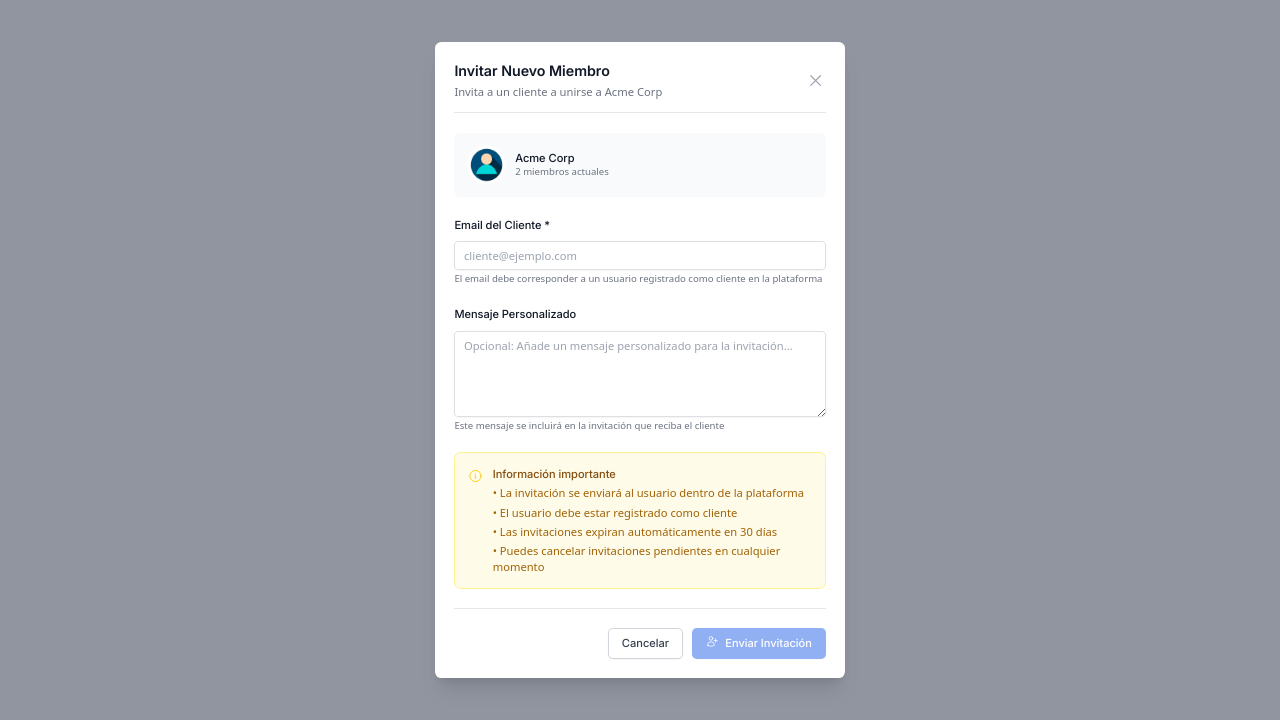
Test: InviteMemberModal.vue › clicking 'Invitar a Otra Persona' after success resets form and keeps modal open
Type "test@example.com" into the field with id "email" at point(640, 256), box [454, 241, 826, 270]
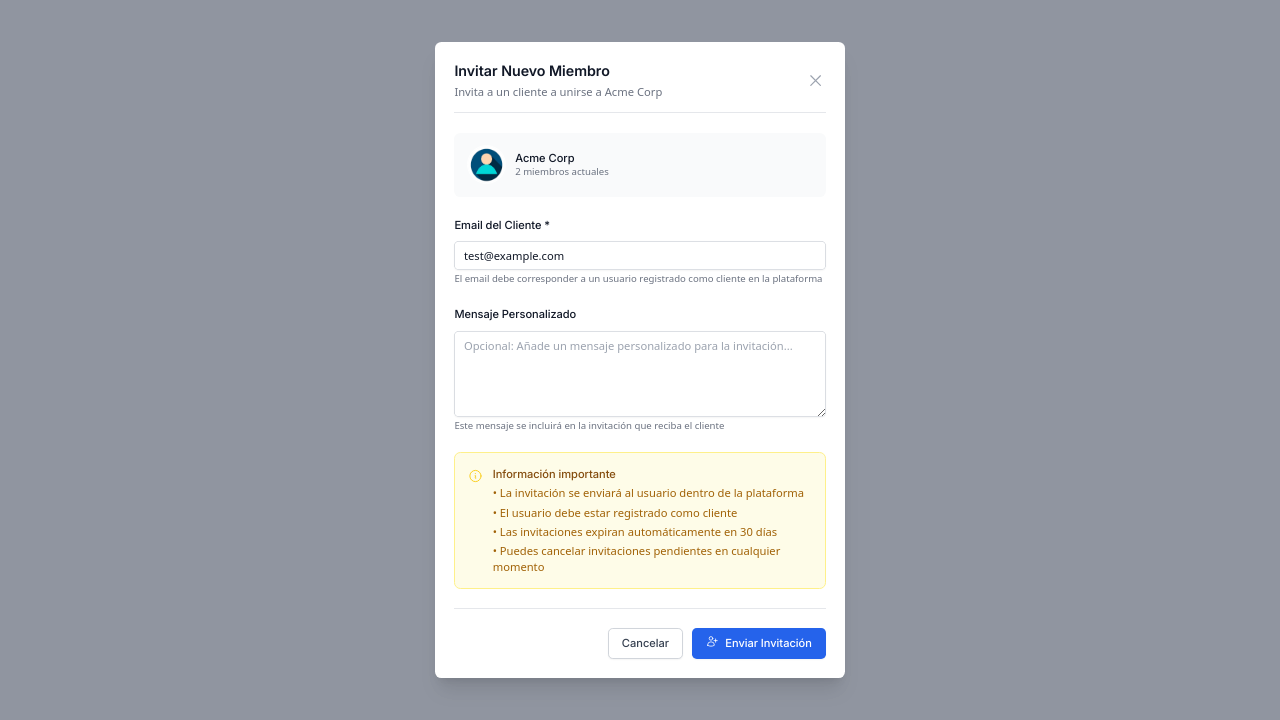
Submit the form, box [454, 132, 826, 659]
(page scrolled)
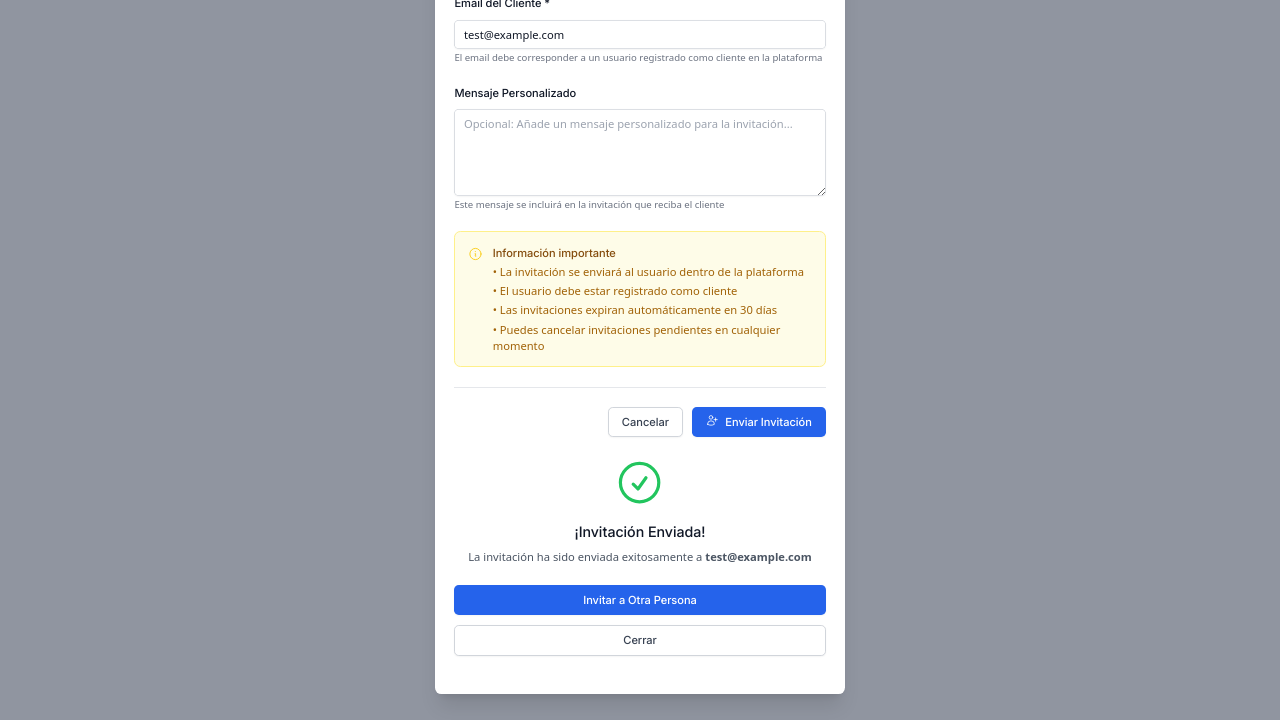
Expected: the text "¡Invitación Enviada!" is shown, [574, 523, 706, 540]
Expected: the button "Invitar a Otra Persona" is shown
Click the button "Invitar a Otra Persona" at point(640, 600), box [454, 585, 826, 615]
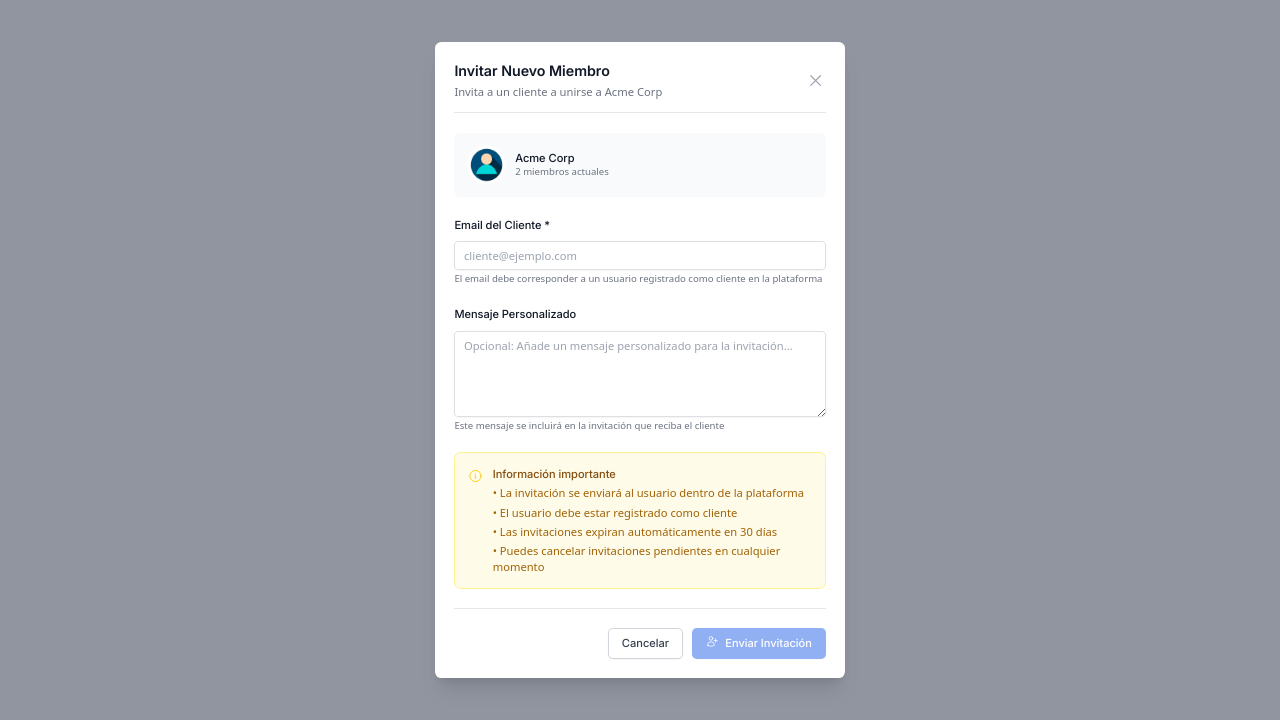
Expected: the field with id "email" is empty, [454, 241, 826, 270]
Expected: the text "¡Invitación Enviada!" is gone
